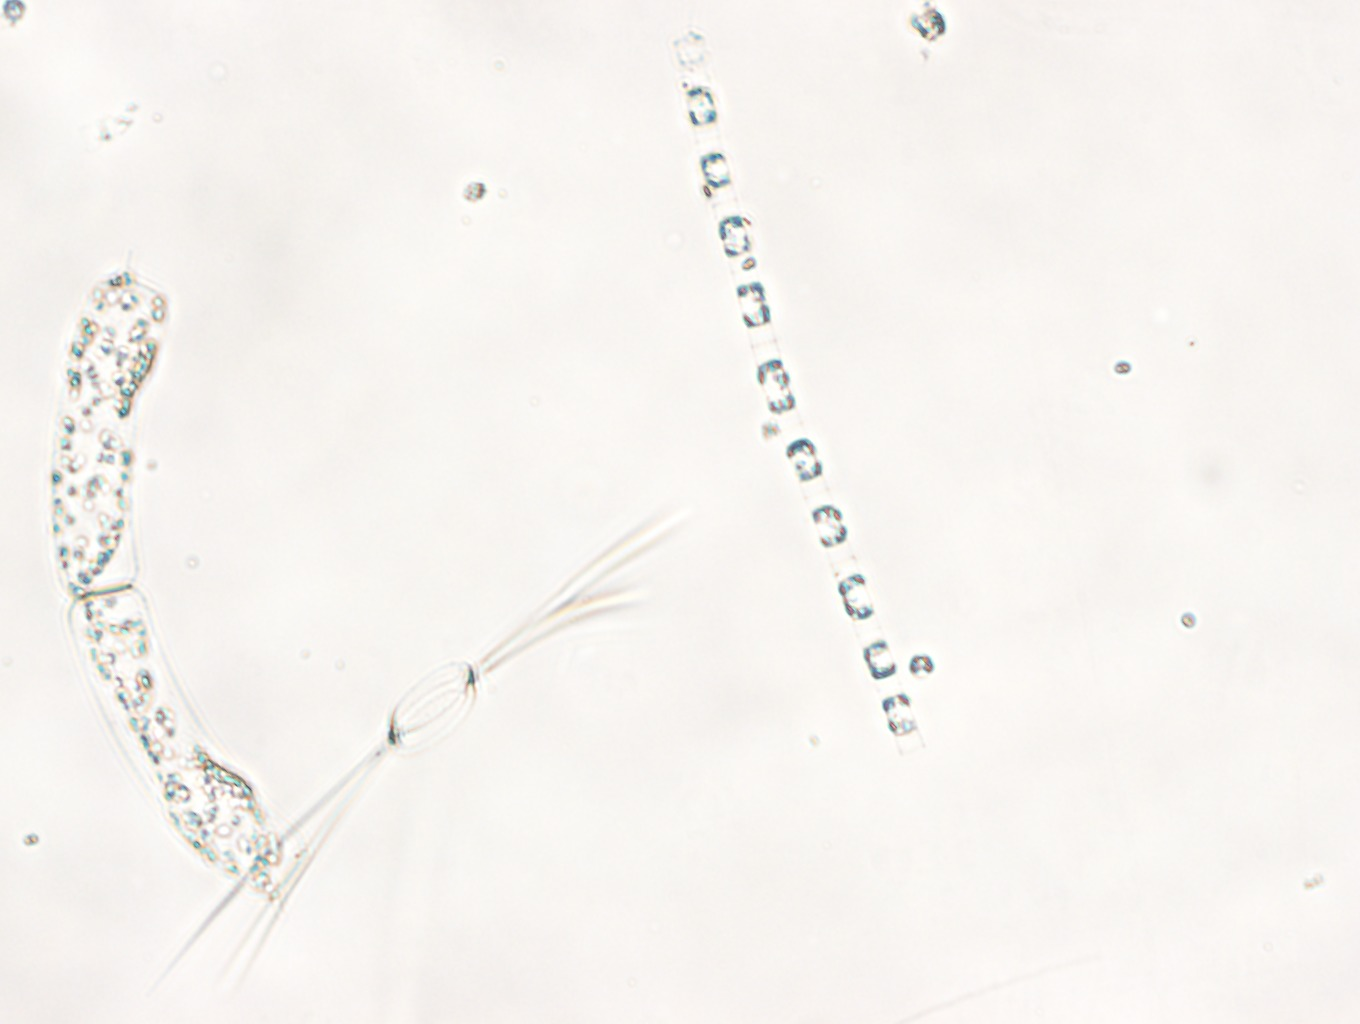chaetoceros: (167, 513, 681, 985), (672, 31, 924, 766)
